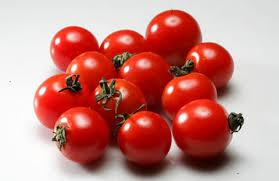tomato: (171, 99, 236, 160), (143, 9, 203, 63), (56, 106, 110, 165), (116, 113, 173, 165), (32, 71, 83, 126), (94, 79, 149, 127), (120, 53, 171, 98), (186, 41, 235, 86), (163, 74, 218, 114), (65, 53, 116, 93), (50, 27, 96, 65), (101, 28, 147, 62)
